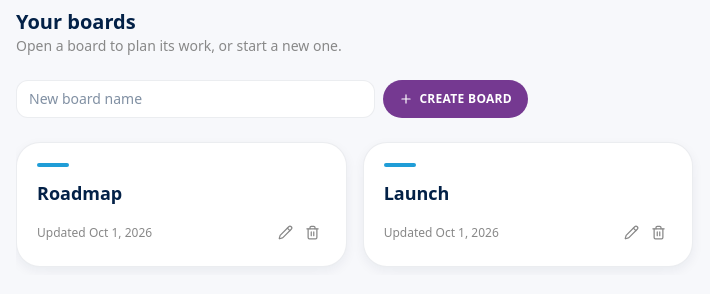
it: BoardList › renames a board
The width and height of the screenshot is (710, 294).
Check: the button "Roadmap" is shown, box [37,179,326,207]
Click the button named "Rename Roadmap": x=285, y=232 [272,219,299,246]
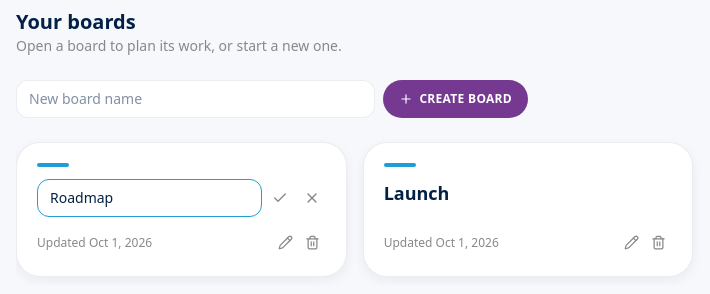
Replace the text in the field named "Board name" with "Product roadmap": x=149, y=198 [37,179,262,217]
Then press Enter
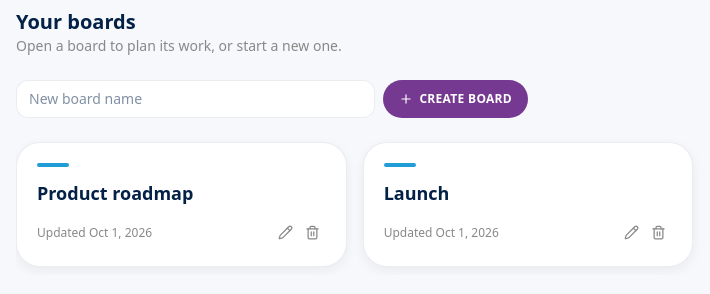
Check: the button "Product roadmap" is shown, box [37,179,326,207]
